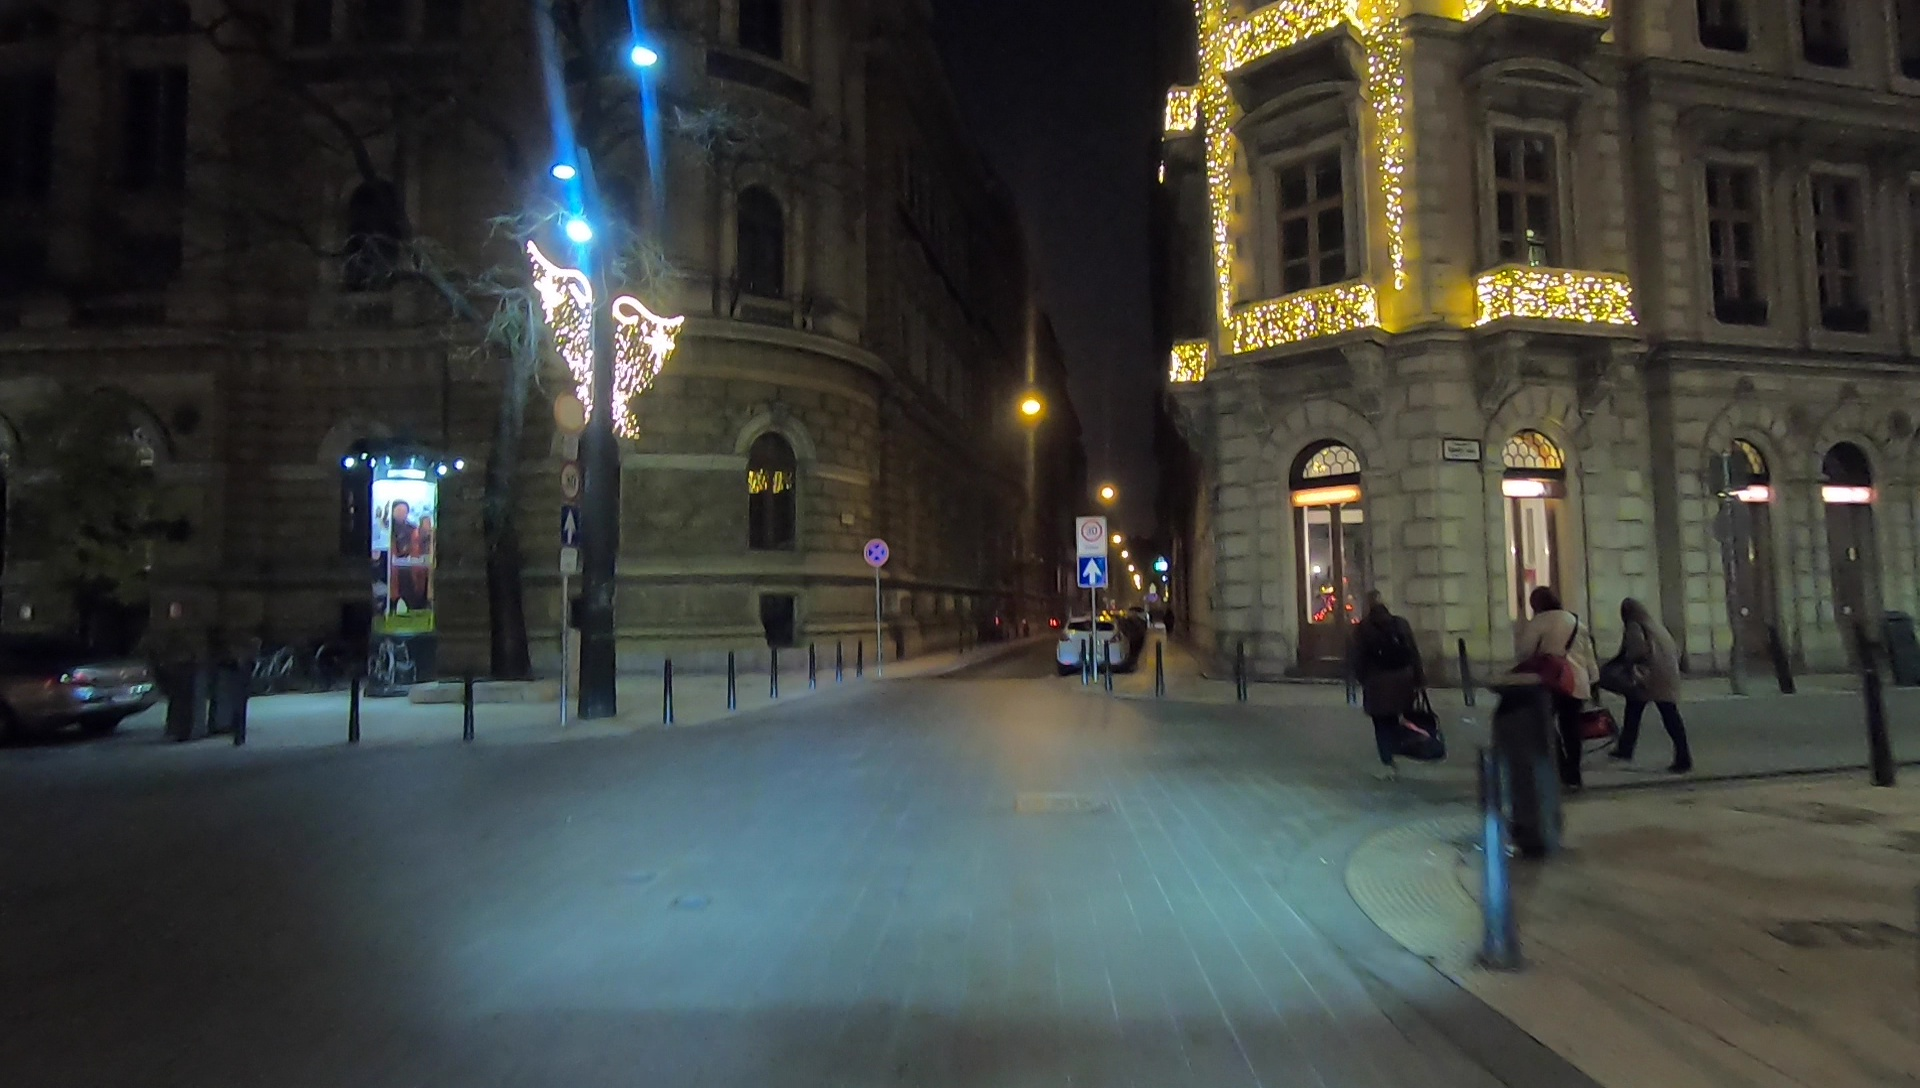person: (1514, 576, 1602, 793), (1351, 587, 1441, 784), (1608, 591, 1695, 778)
